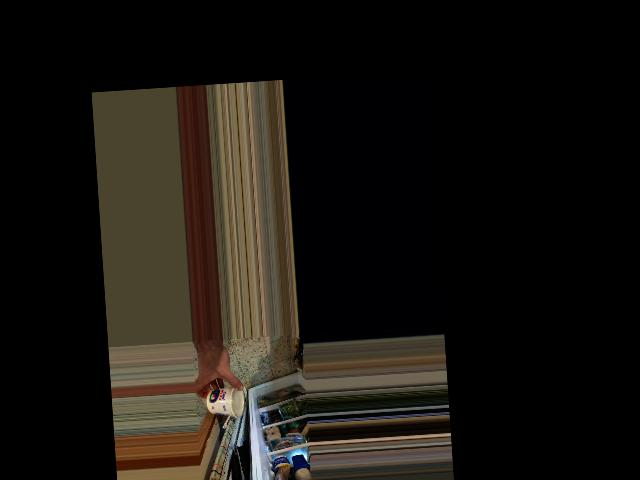cotage: (205, 385, 244, 419)
